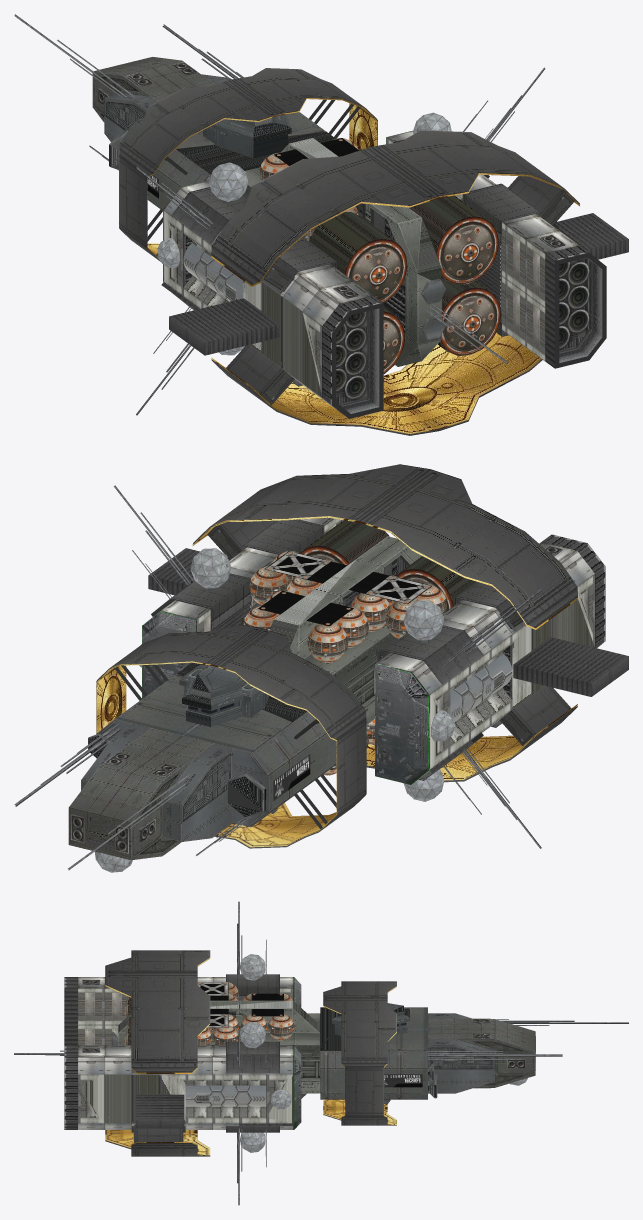
File: ship_ext.glb
3 views of the same model, one above another, from view 1: azimuth 30°, elevation 25°; view 2: azimuth 150°, elevation 25°; view 3: azimuth 270°, elevation 25° (orthographic). The views are drawn at different scales.
Parts seen in each view (by area): view 1: ship_1; view 2: ship_1, registry_0; view 3: ship_1, registry_0.
Boxes of the visible parts, x1=… form: ship_1: x1=14, y1=14, x2=628, y2=435; ship_1: x1=14, y1=464, x2=628, y2=872; registry_0: x1=273, y1=754, x2=310, y2=800; ship_1: x1=14, y1=901, x2=628, y2=1205; registry_0: x1=384, y1=1074, x2=422, y2=1087.
Size of the model in its own units: 24.72 by 13.87 by 45.69.
Materials: 23 (22 with a texture image).
